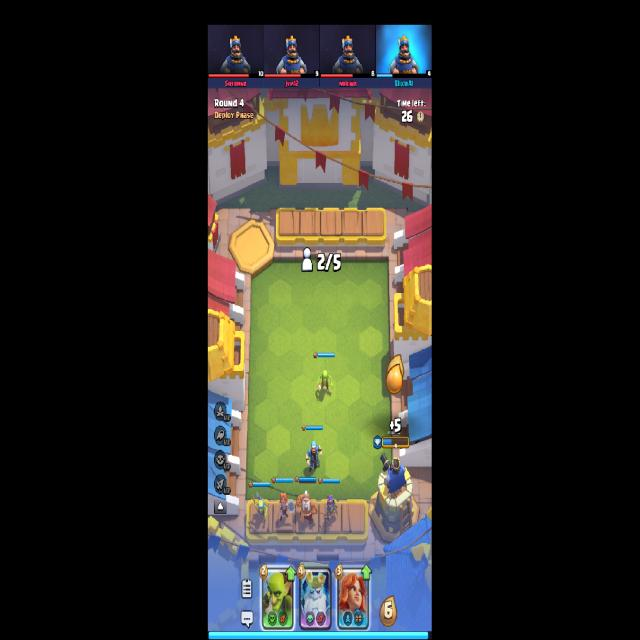archer_queen: (321, 495, 338, 524)
card_goblin: (261, 566, 294, 630)
card_royal_ghost: (300, 566, 332, 631)
card_valkyrie: (337, 566, 370, 630)
goblin: (317, 369, 333, 394)
monk: (296, 490, 318, 524)
spear_goblin: (251, 493, 267, 521)
valkyrie: (278, 491, 296, 523)
wizard: (306, 440, 322, 472)
